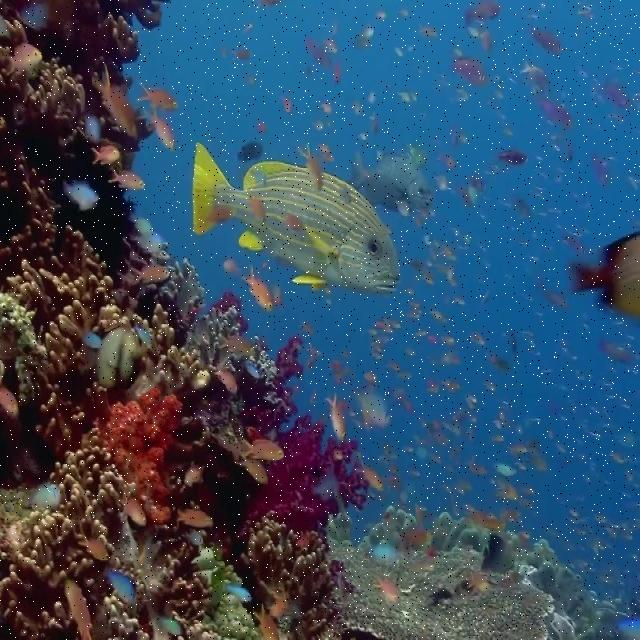fish: (193, 142, 400, 295), (352, 150, 433, 214), (92, 63, 140, 136), (242, 266, 272, 311), (145, 106, 175, 149), (241, 438, 284, 461), (325, 394, 346, 441), (235, 457, 268, 483), (138, 84, 176, 106), (110, 167, 144, 190), (132, 265, 170, 283), (93, 145, 120, 164)
